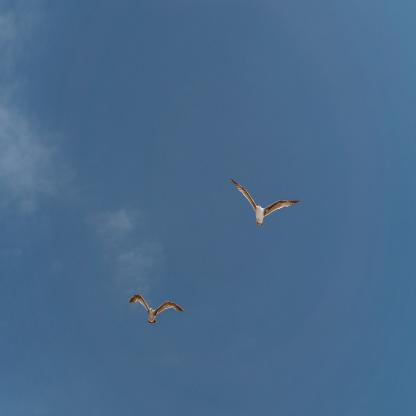bird: (231, 177, 300, 228), (127, 294, 185, 324)
